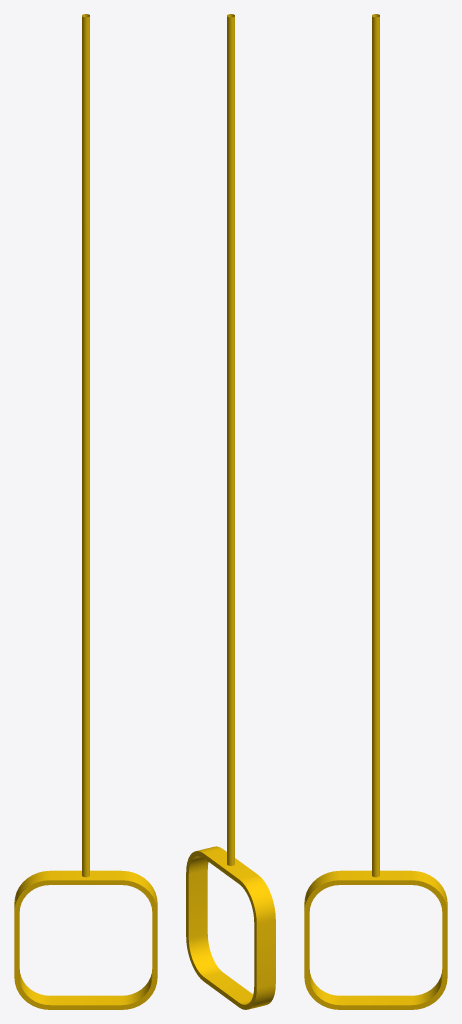
File: cutter2_roundcube.fbx
3 views of the same model, side by side, from view 1: azimuth 90°, elevation 25°; view 2: azimuth 210°, elevation 25°; view 3: azimuth 270°, elevation 25° (orthographic).
Parts seen in each view (by area): view 1: Cutter2_Roundcube; view 2: Cutter2_Roundcube; view 3: Cutter2_Roundcube.
Part boxes in pixels (x1=…): Cutter2_Roundcube: x1=14, y1=14, x2=157, y2=1009; Cutter2_Roundcube: x1=186, y1=14, x2=275, y2=1009; Cutter2_Roundcube: x1=304, y1=14, x2=447, y2=1009.
Size of the model in its own units: 16.81 by 824 by 108.
